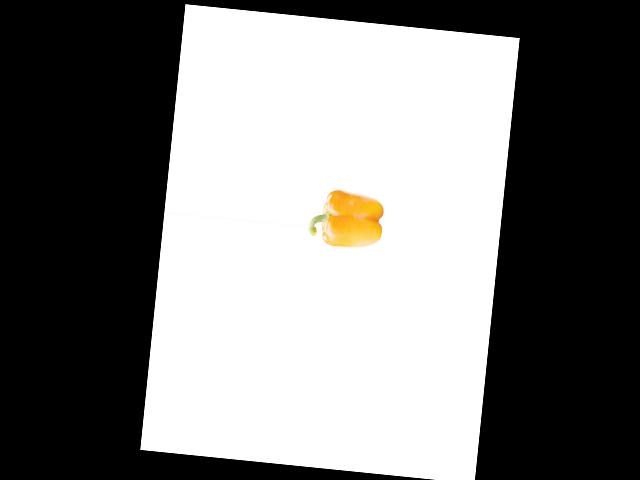bell_pepper: (306, 181, 386, 257)
